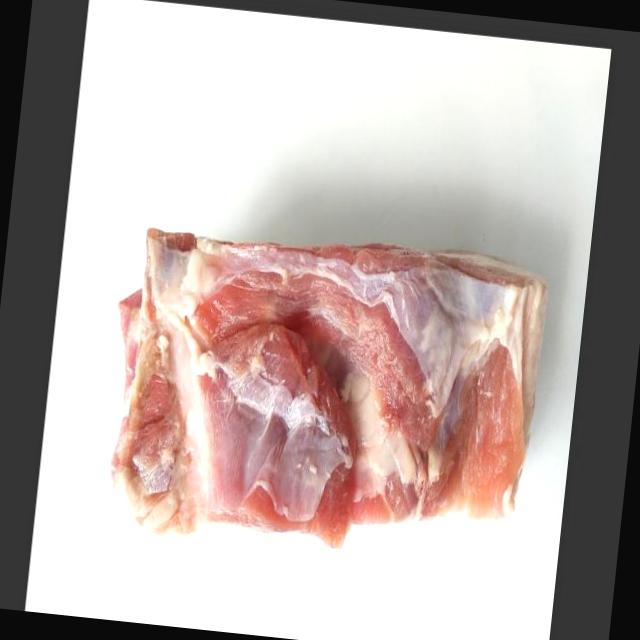potato: (70, 215, 568, 585)
